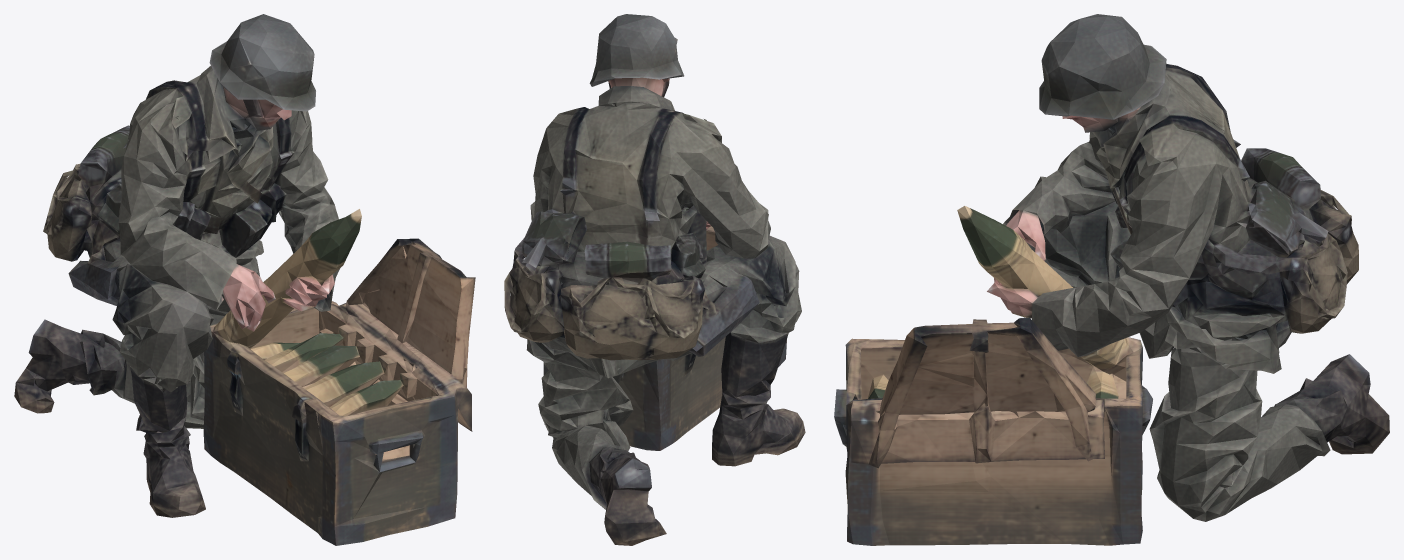
The model's file is crew_ammo.obj.
The picture shows the model from 3 angles, left to right: view 1: azimuth 30°, elevation 25°; view 2: azimuth 150°, elevation 25°; view 3: azimuth 270°, elevation 25°; orthographic projection. The views are drawn at different scales.
Visible parts, largest first — view 1: crew_ammo; view 2: crew_ammo; view 3: crew_ammo.
Boxes of the visible parts, bbox=[...] form: crew_ammo: bbox=[14, 14, 475, 545]; crew_ammo: bbox=[504, 14, 805, 545]; crew_ammo: bbox=[834, 14, 1389, 545].
Bounding box in the file's own units: 0.8568 × 1.3 × 1.32.
Materials: 1 (1 with a texture image).
